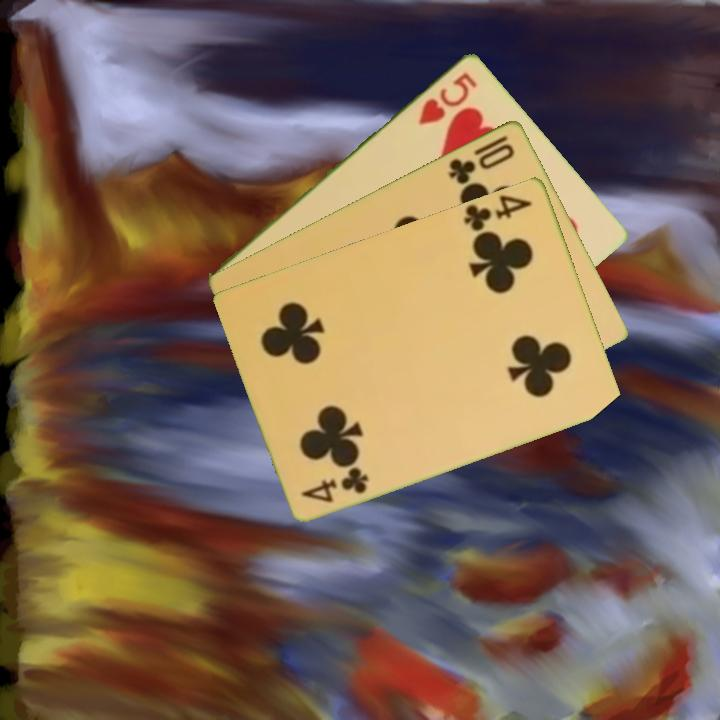10c: (445, 131, 518, 187)
4c: (460, 190, 535, 234), (298, 463, 372, 505)
5h: (415, 68, 480, 128)
